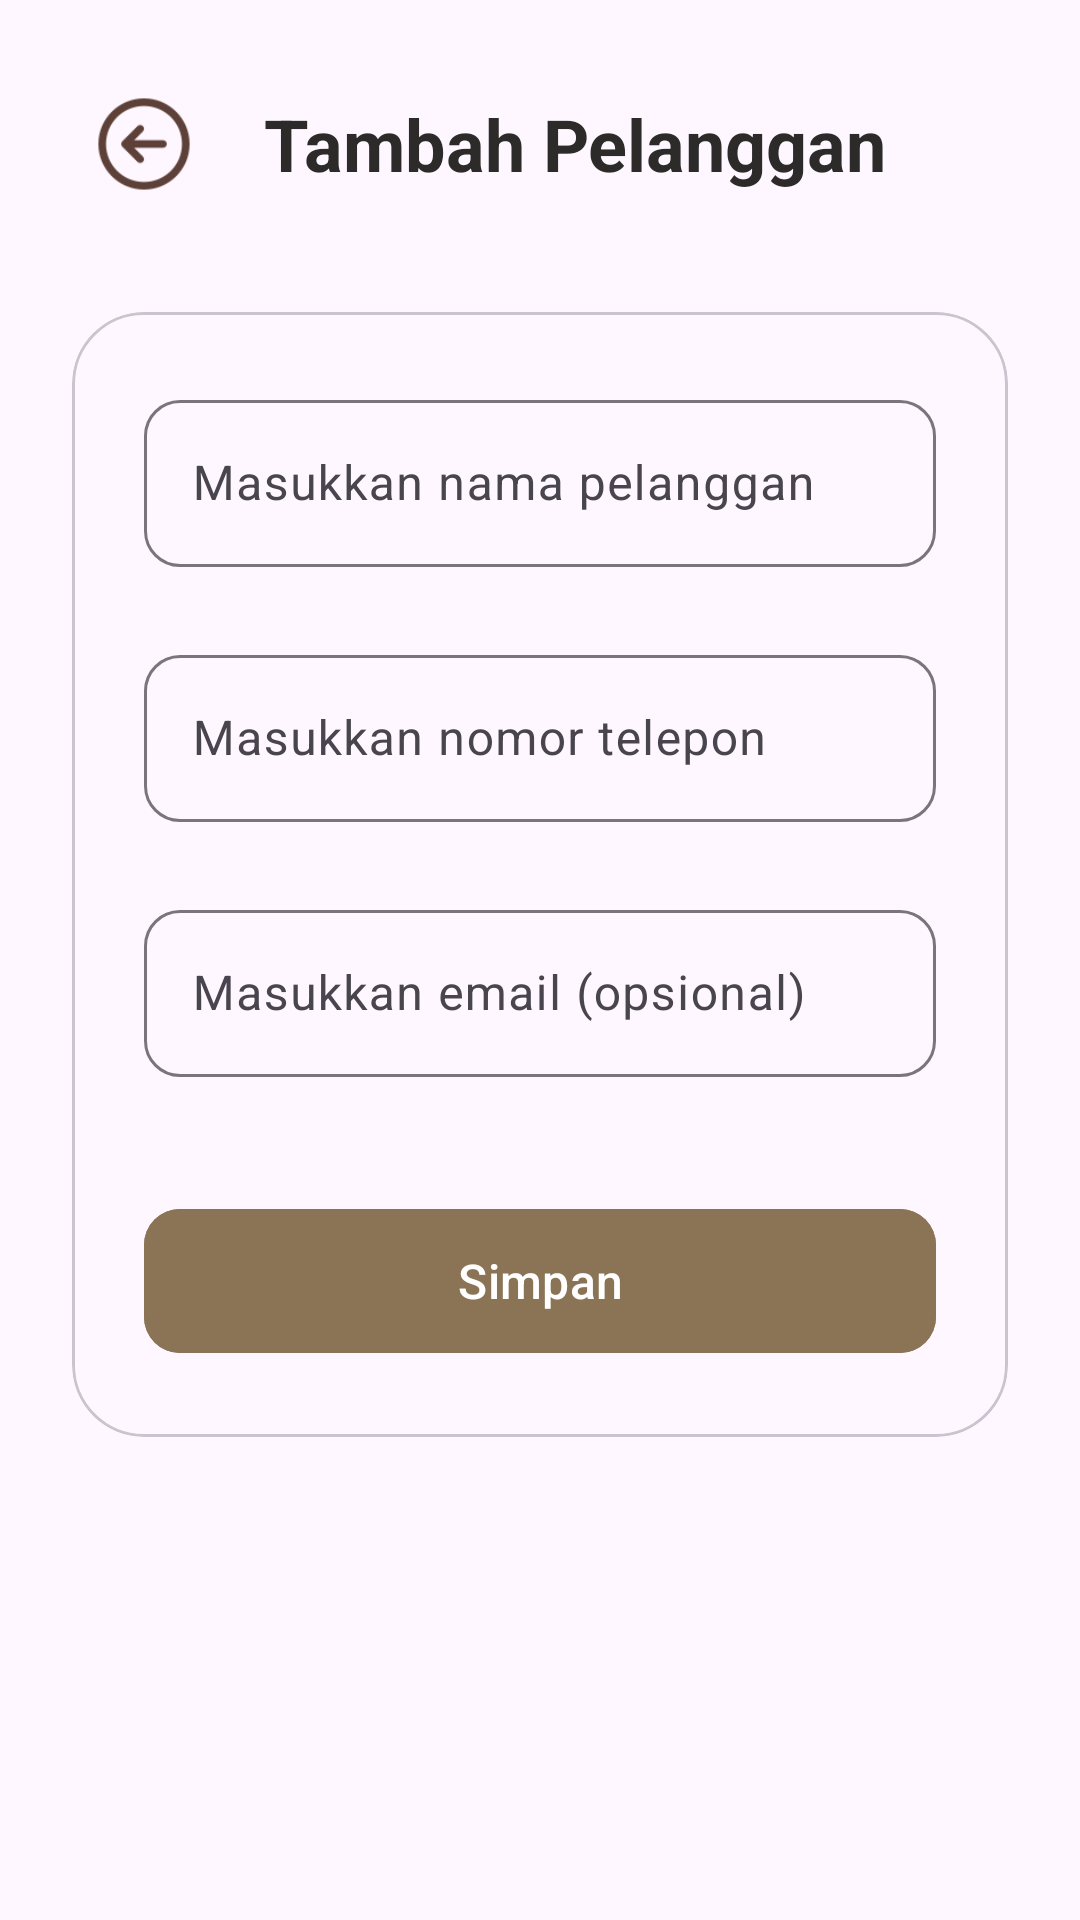

Screen size 1080×1920. Icon name, then its center in pixels as (x=x, y=y):
back: (x=144, y=144)
